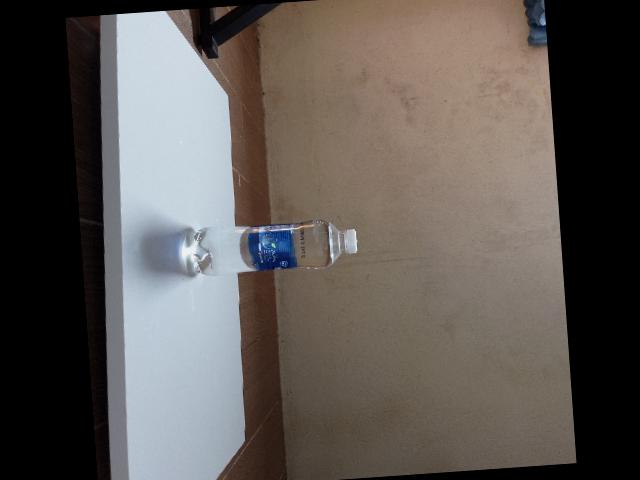aquafina: (187, 219, 356, 275)
